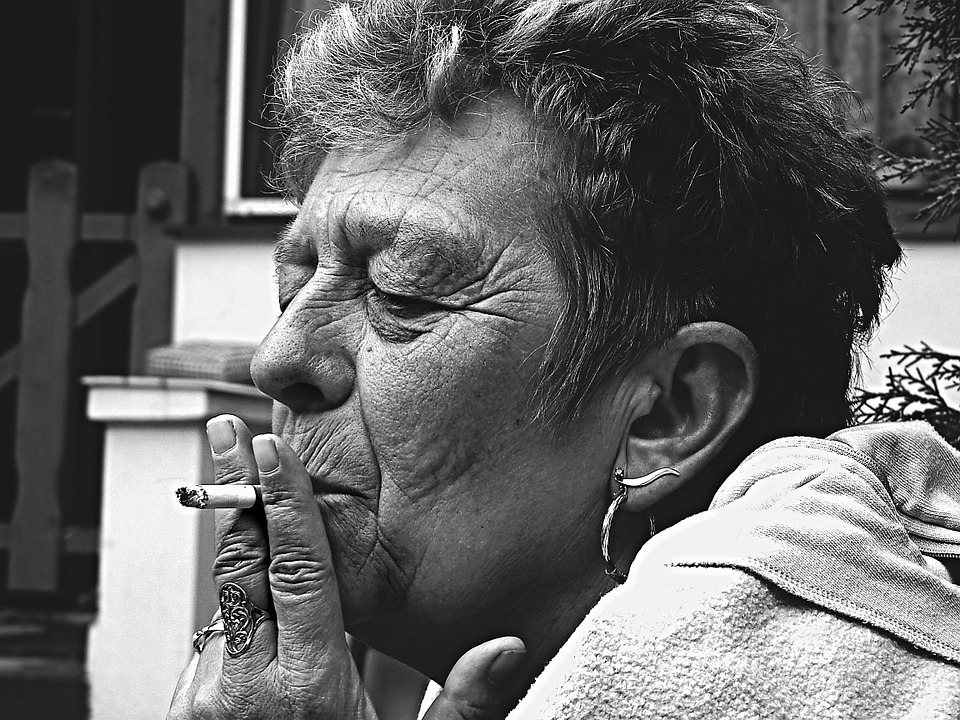cigarette: (169, 483, 274, 509)
